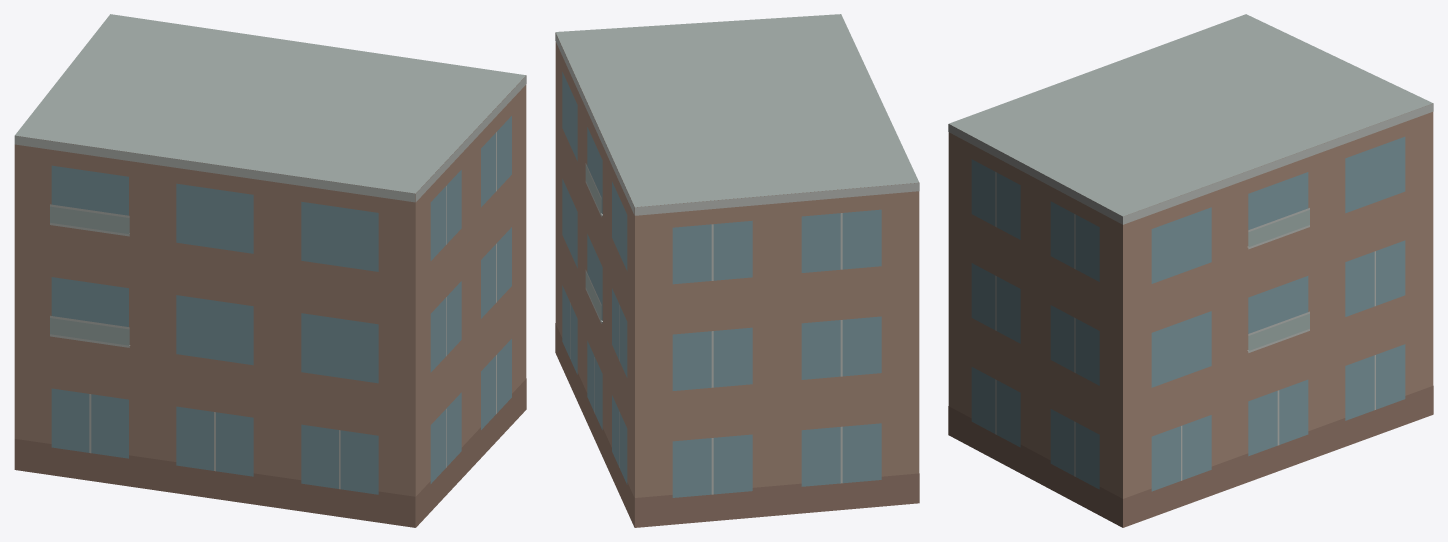
The model's file is survey-upis-33034080.glb.
3 renders of one model, left to right at view 1: azimuth 30°, elevation 25°; view 2: azimuth 150°, elevation 25°; view 3: azimuth 270°, elevation 25°, orthographic. The views are drawn at different scales.
Parts seen in each view (by area): view 1: survey-upis-33034080.tmp; view 2: survey-upis-33034080.tmp; view 3: survey-upis-33034080.tmp.
Boxes of the visible parts, x1,y1,x2,y2 form: survey-upis-33034080.tmp: [14, 14, 526, 527]; survey-upis-33034080.tmp: [555, 14, 919, 527]; survey-upis-33034080.tmp: [948, 14, 1433, 527].
Bounding box in the file's own units: 12.77 × 9.15 × 12.92.
